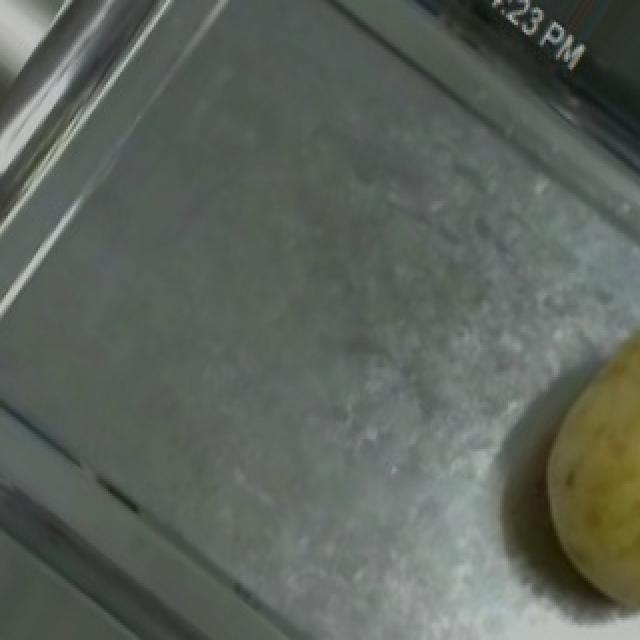Fruit: (504, 305, 640, 635)
